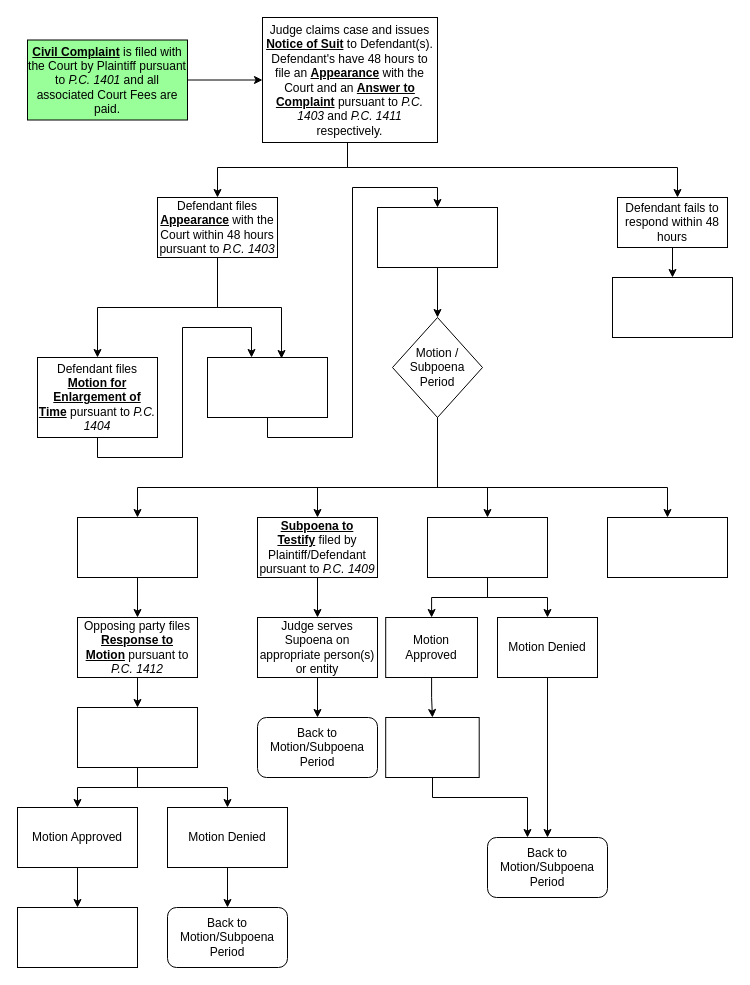
Image size: 750x985. Some labels were removed from this diagram. The box of each missing label's shape, as (x1, y1, x2, y2) in pixels:
(See Page 2 for more Motions): (606, 516, 728, 578)
Case is Dismissed: (16, 906, 138, 968)
Defendant files Answer to Complaint pursuant to P.C. 1411: (206, 356, 328, 418)
Judge files Court Response to Motion pursuant to P.C. 1405: (76, 706, 198, 768)
Judge sets Hearing Date purusant to P.C. 1206: (376, 206, 498, 268)
Motion for Pretrial Conference: (426, 516, 548, 578)
Plaintiff/Defendant filies Motion to Dismiss pursuant to P.C. 1406: (76, 516, 198, 578)
Pretrial Conference date set by Judge: (385, 716, 479, 778)
